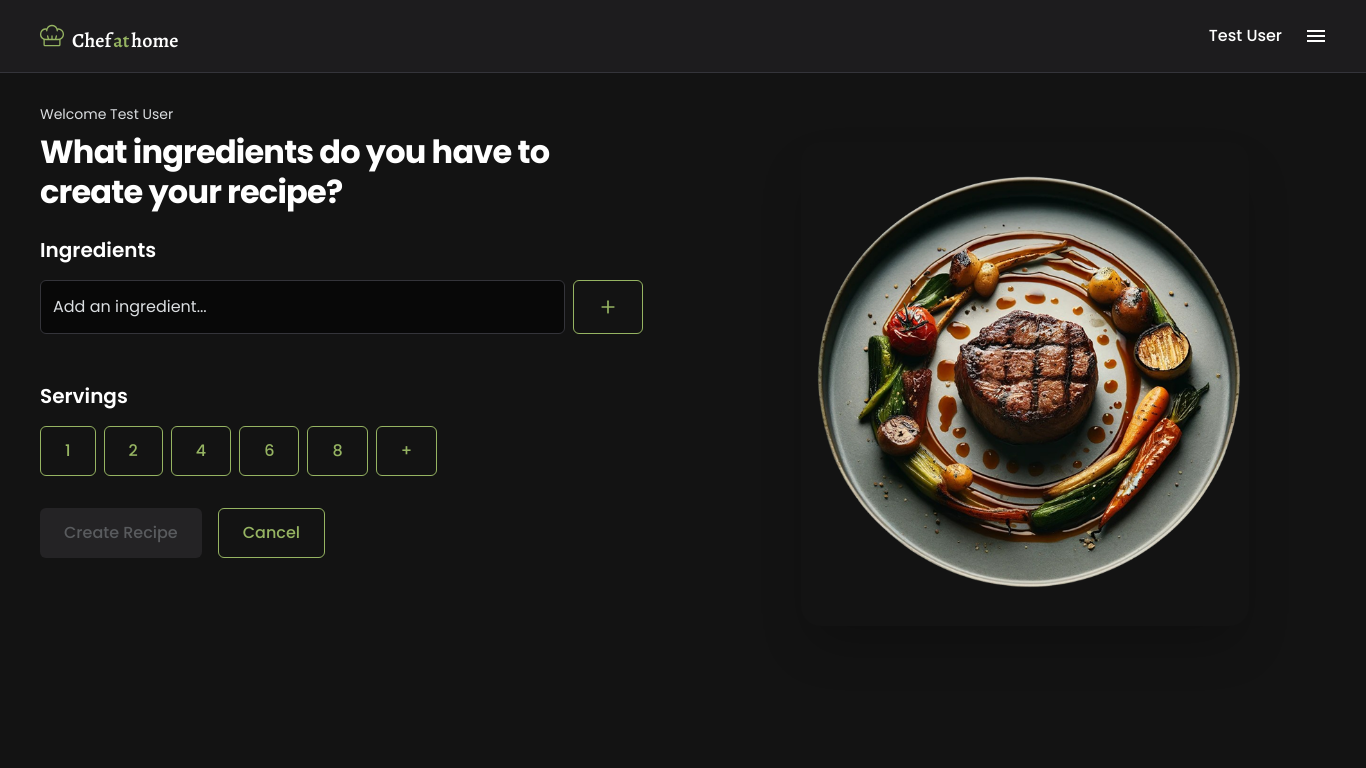
Test: CreateRecipePage › Recipe Creation › enables create button when ingredients and servings are selected
Type "Tomato" into the field with placeholder "Add an ingredient..." at (302, 307), box [40,280,565,334]
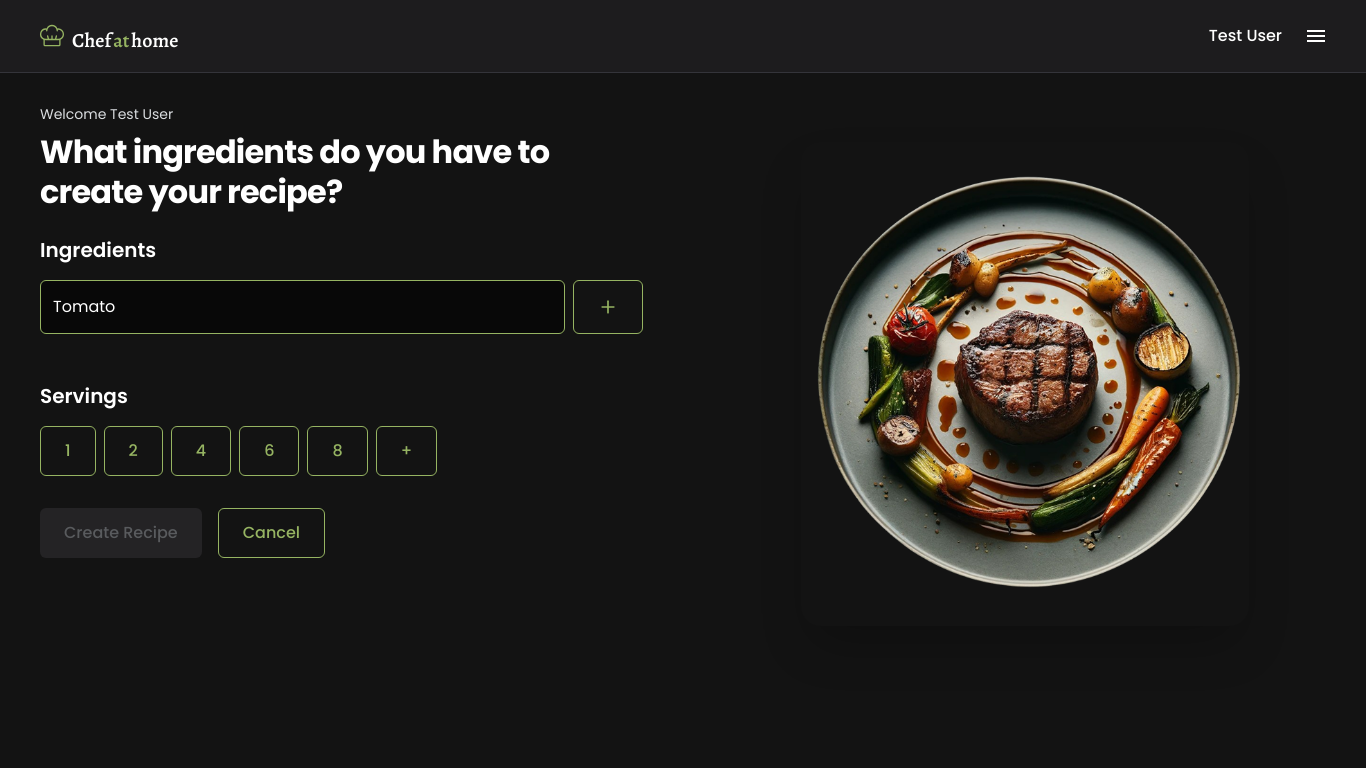
Click the button with test id "add-ingredient-button" at (608, 307), box [573,280,643,334]
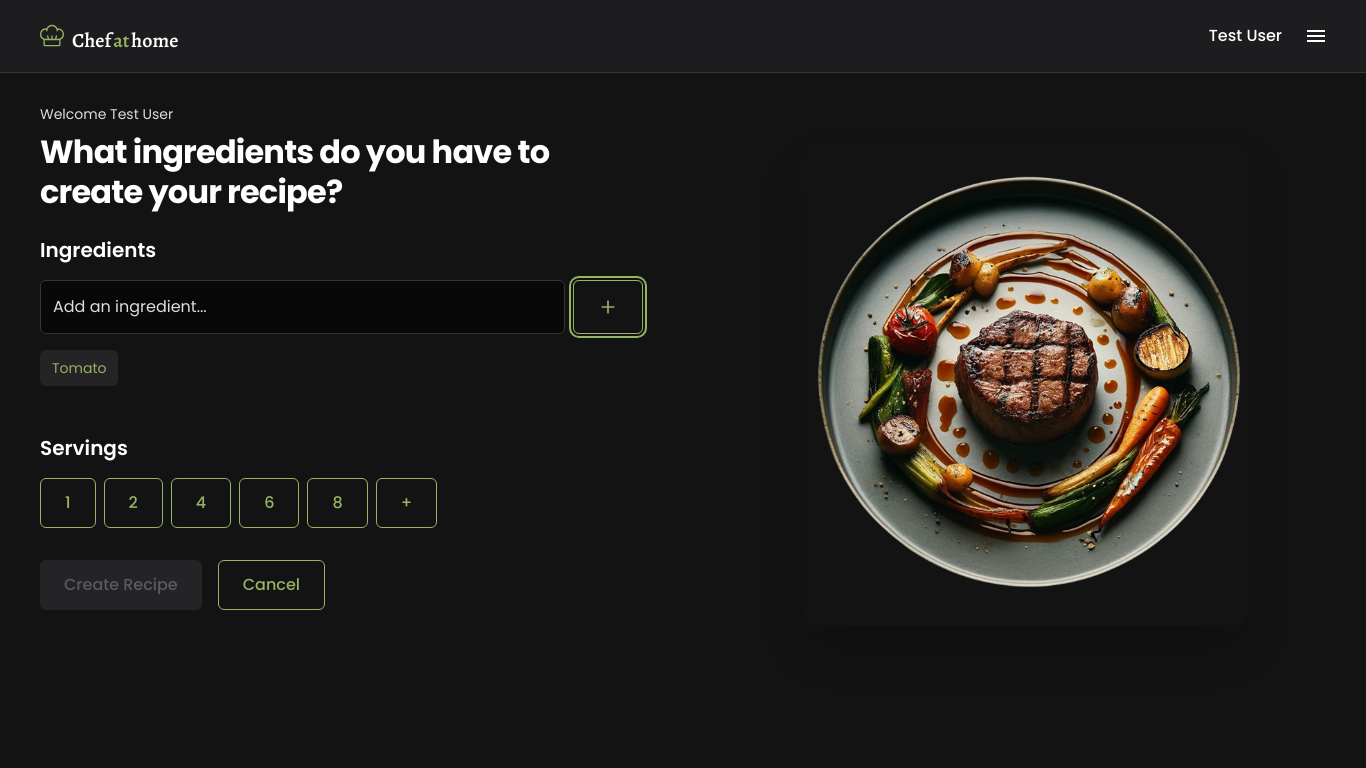
# Select serving
Click the button "4" at (201, 503), box [171,478,231,528]
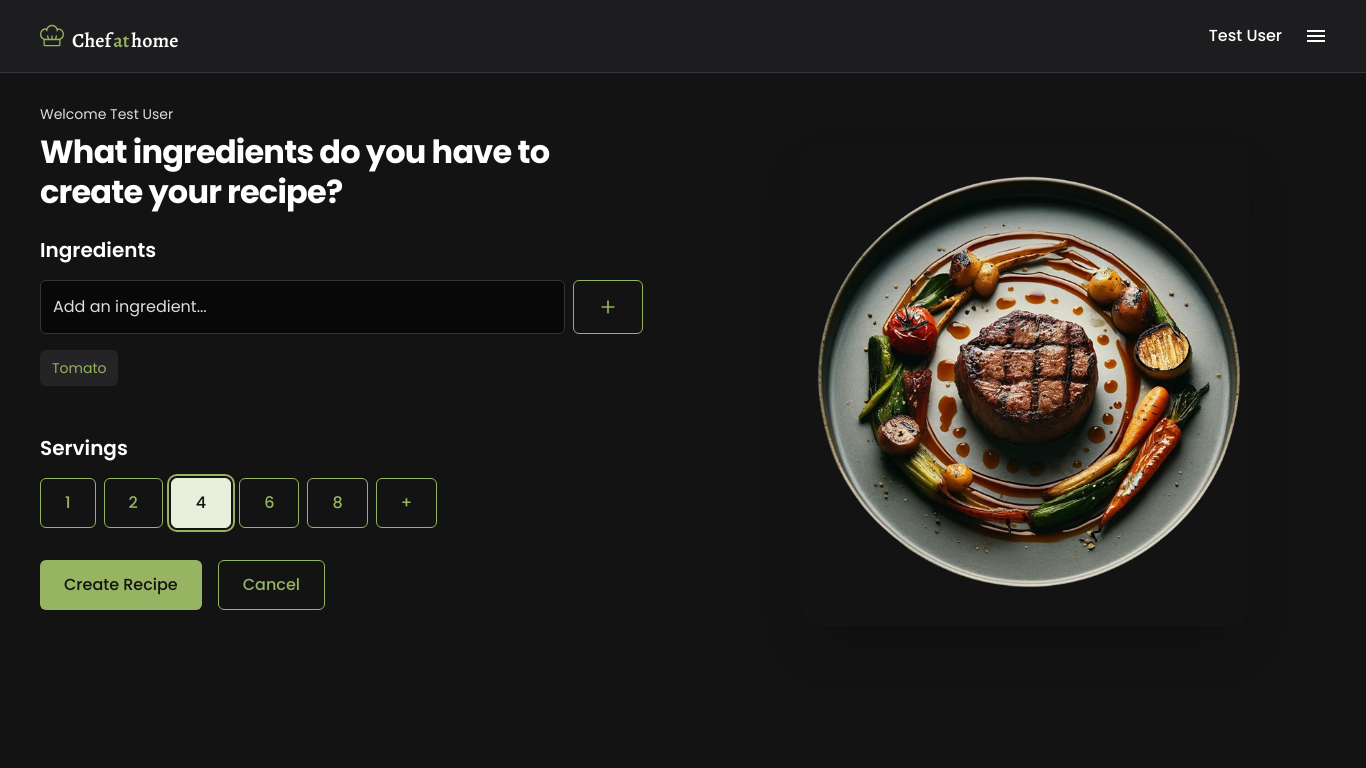
Check: the button "Create Recipe" is enabled, box [40,560,202,610]
